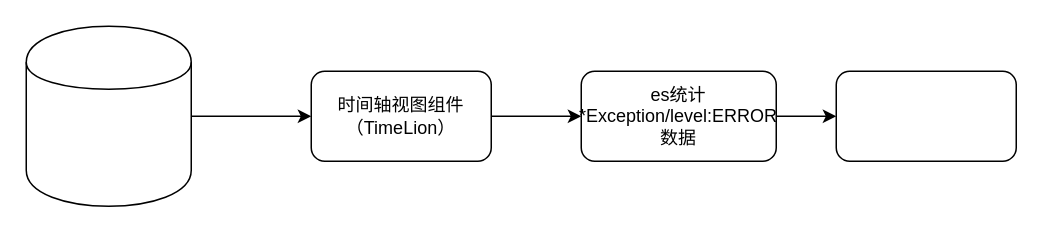
This 1043x233 diagram has some shape labels left out. The shapes that lost their labels are listed below. From the top down, each one's centre as x and y in pixels, then its label:
[108,115]: es日志服务 （ELK收集应用输出日志）
[925,115]: kibana图表展示
